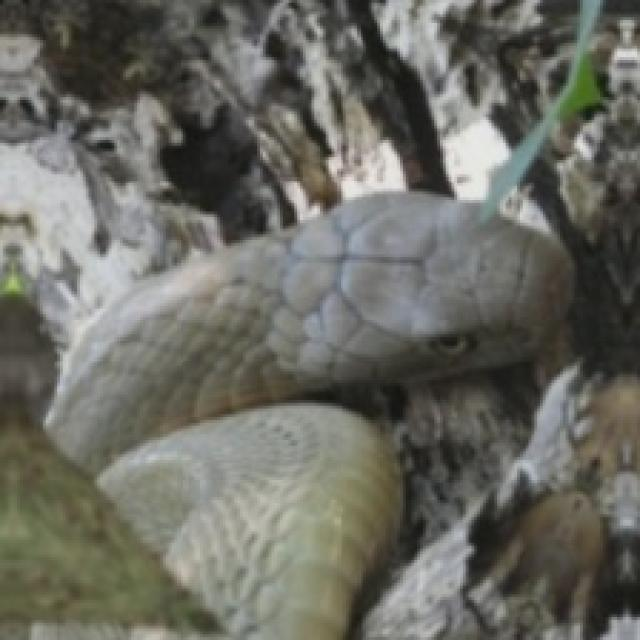king cobra: (46, 194, 569, 637)
